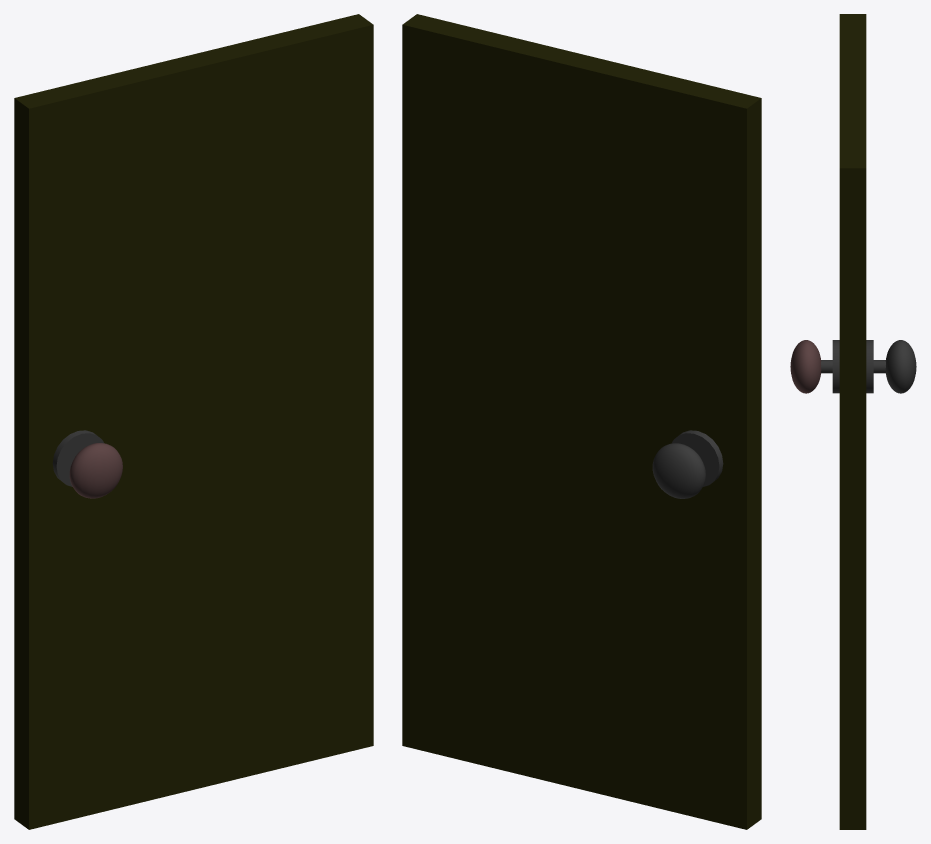
The model's file is door.fbx.
The picture shows the model from 3 angles, left to right: view 1: azimuth 30°, elevation 25°; view 2: azimuth 150°, elevation 25°; view 3: azimuth 270°, elevation 25°; orthographic projection. The views are drawn at different scales.
Visible parts, largest first — view 1: pCube1, pSphere1, pCylinder1; view 2: pCube1, pSphere2, pCylinder1; view 3: pCube1, pSphere1, pSphere2, pCylinder1, pCylinder2.
Boxes of the visible parts, box(x1,y1,x2,y2) form: pCube1: box(14, 14, 373, 829); pSphere1: box(69, 443, 122, 498); pCylinder1: box(52, 430, 103, 486); pCube1: box(402, 14, 761, 829); pSphere2: box(652, 443, 705, 498); pCylinder1: box(671, 430, 723, 486); pCube1: box(839, 14, 866, 829); pSphere1: box(790, 340, 821, 393); pSphere2: box(885, 340, 916, 393); pCylinder1: box(832, 340, 873, 393); pCylinder2: box(821, 360, 885, 373).
Bounding box in the file's own units: 13.6 × 27.21 × 4.7.
